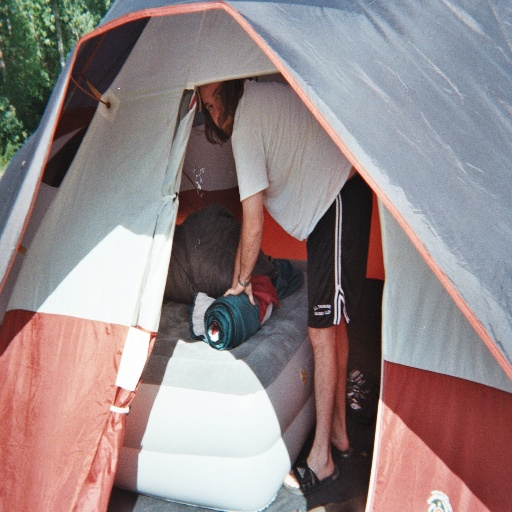hand: (223, 272, 254, 304)
